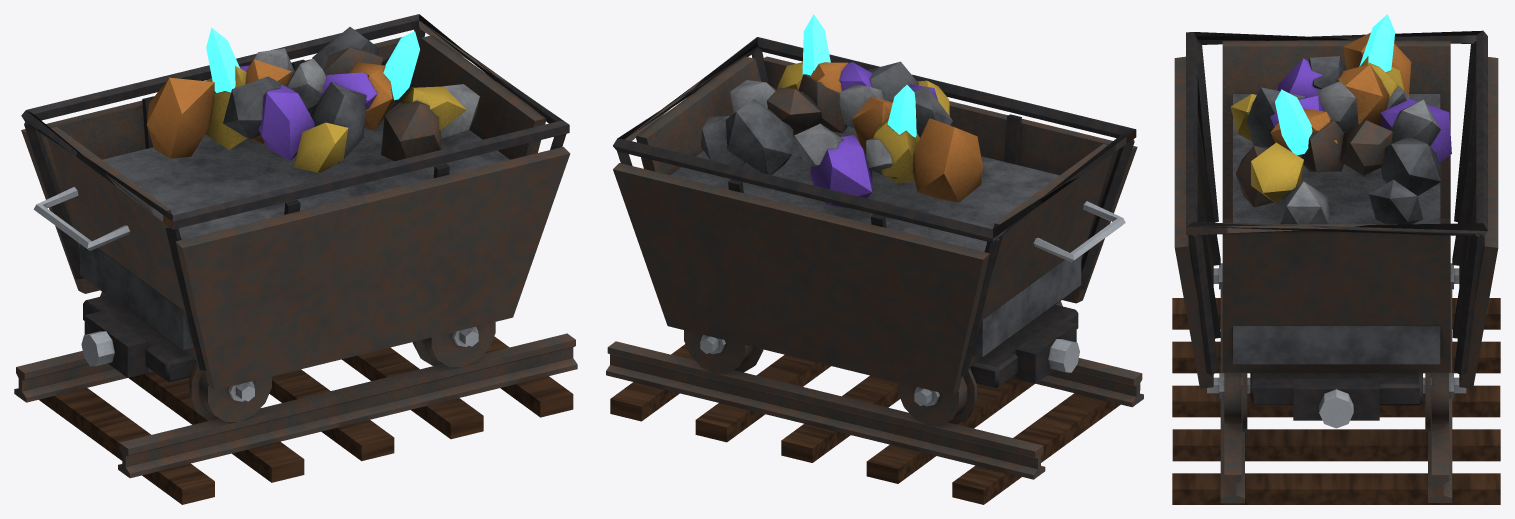
The model's file is vagoneta_mina.fbx.
3 views of the same model, side by side, from view 1: azimuth 30°, elevation 25°; view 2: azimuth 150°, elevation 25°; view 3: azimuth 270°, elevation 25° (orthographic). The views are drawn at different scales.
Visible parts, largest first — view 1: vagoneta_mina_vagoneta, vagoneta_mina, vagoneta_mina_mineral_neon; view 2: vagoneta_mina_vagoneta, vagoneta_mina, vagoneta_mina_mineral_neon; view 3: vagoneta_mina_vagoneta, vagoneta_mina, vagoneta_mina_mineral_neon.
Boxes of the visible parts, x1,y1,x2,y2 form: vagoneta_mina_vagoneta: [21, 14, 570, 421]; vagoneta_mina: [14, 333, 577, 504]; vagoneta_mina_mineral_neon: [206, 27, 419, 100]; vagoneta_mina_vagoneta: [613, 37, 1137, 425]; vagoneta_mina: [606, 341, 1143, 504]; vagoneta_mina_mineral_neon: [802, 14, 916, 137]; vagoneta_mina_vagoneta: [1174, 30, 1498, 432]; vagoneta_mina: [1172, 289, 1500, 504]; vagoneta_mina_mineral_neon: [1275, 14, 1395, 155].
Size of the model in its own units: 3.08 by 2.34 by 1.9.
Materials: 2 (2 with a texture image).
